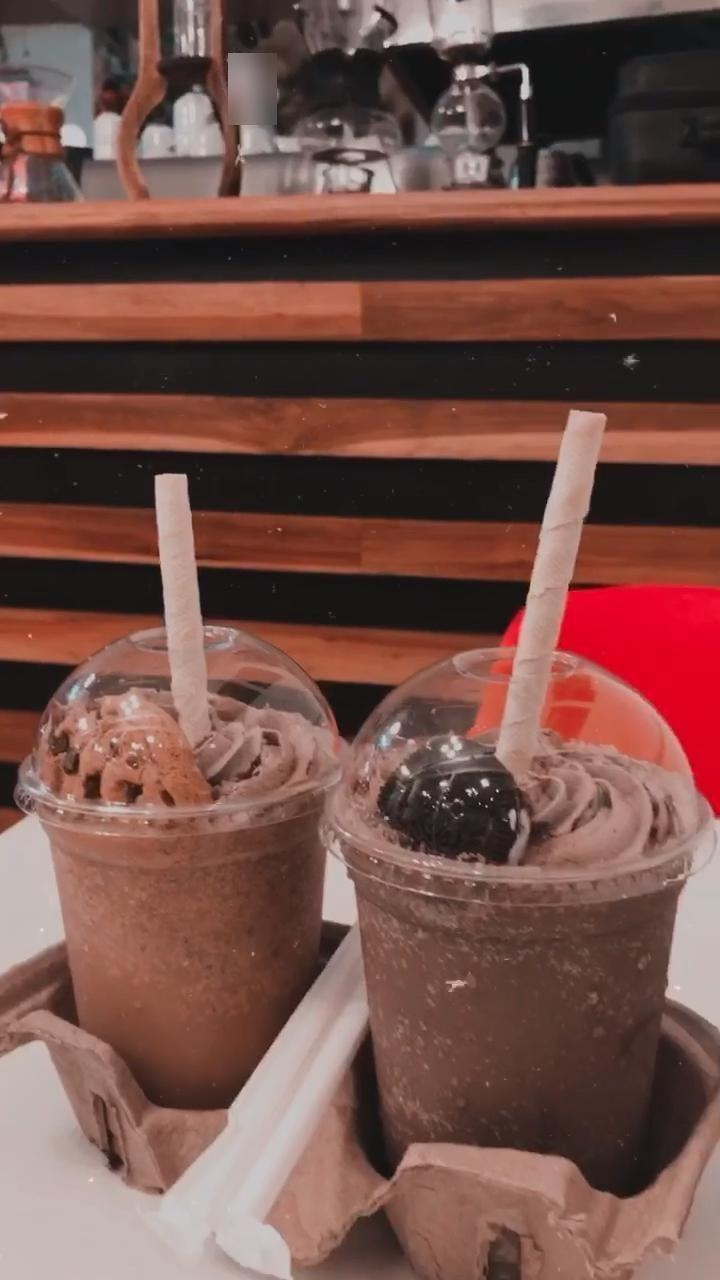cup-disposable: (326, 640, 714, 1188), (12, 618, 344, 1110)
